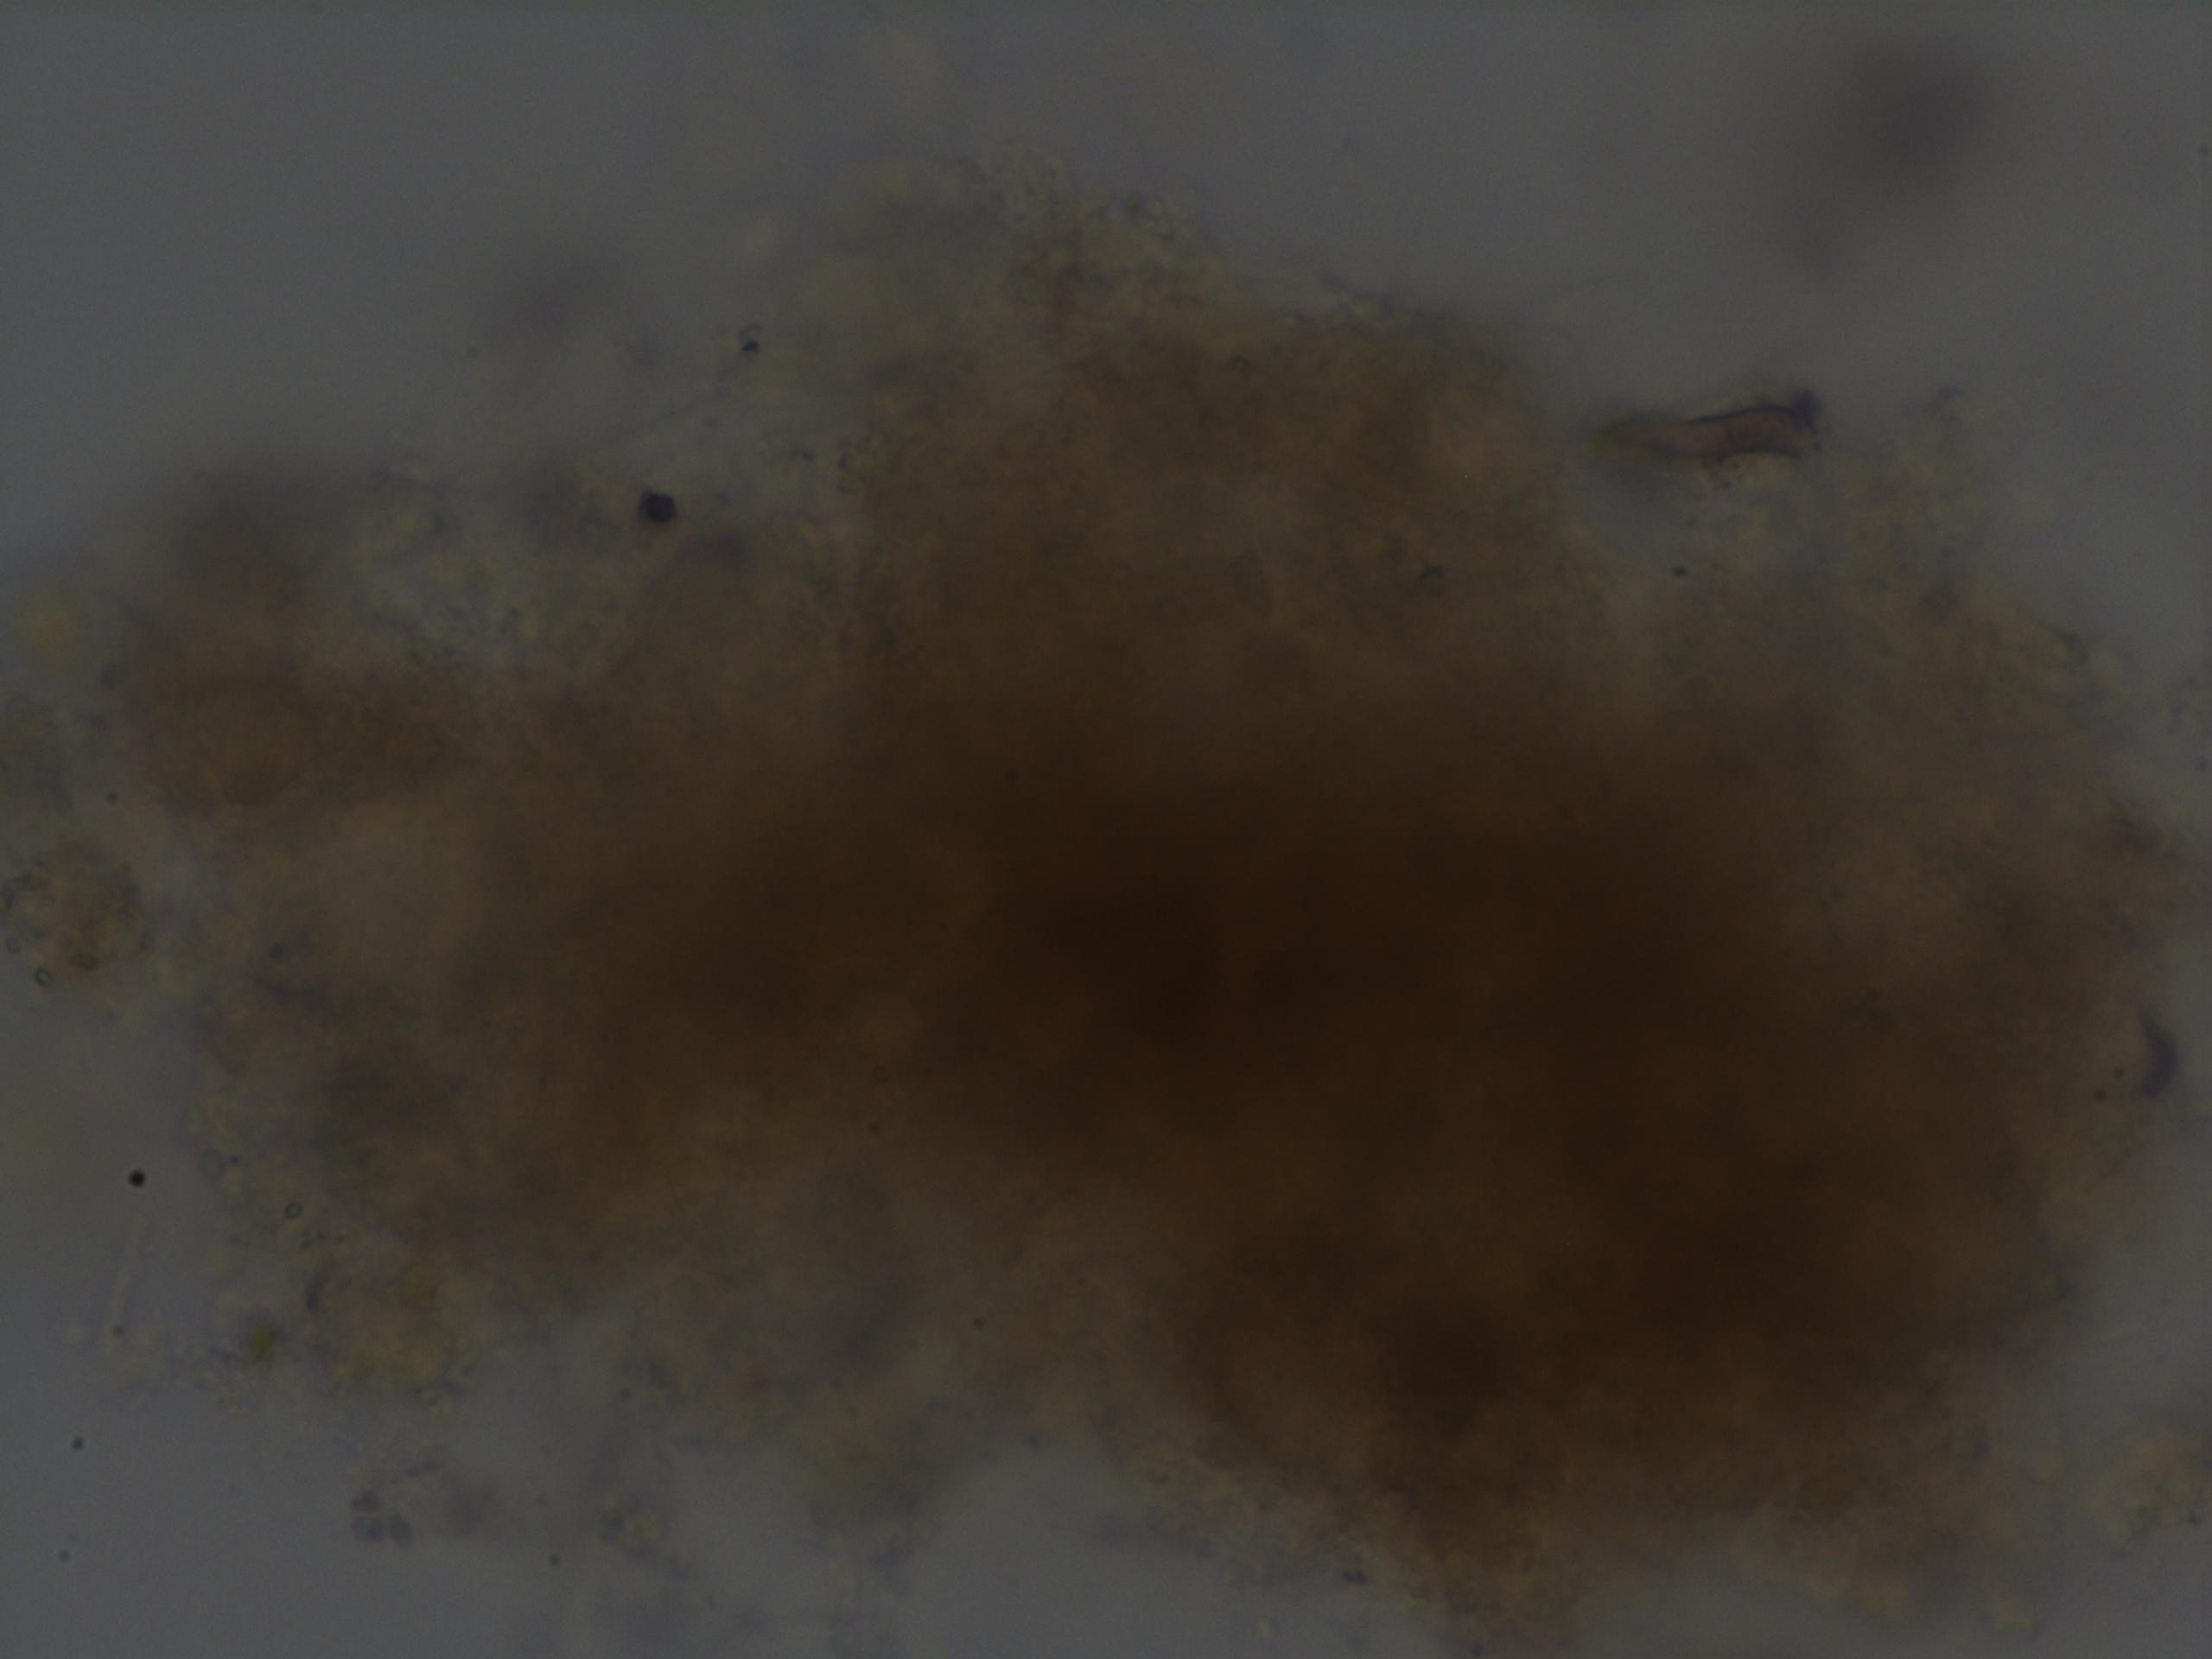spherical_floc: (195, 234, 2209, 1582)
